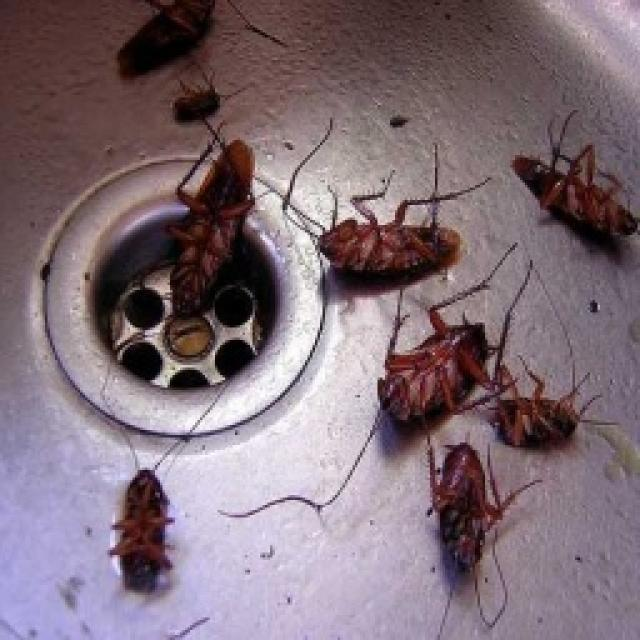cockroach: (161, 132, 272, 336), (367, 296, 514, 449), (302, 177, 470, 292), (503, 129, 639, 254), (103, 436, 192, 606), (107, 0, 257, 89), (424, 445, 507, 589), (480, 378, 596, 466), (161, 82, 233, 121)
